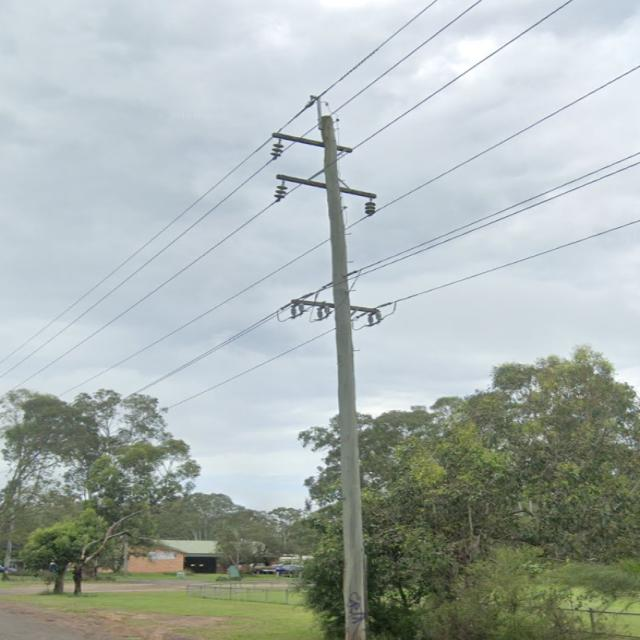HV-transmission: (274, 98, 376, 216)
crossarm: (273, 172, 376, 197), (270, 130, 351, 152), (288, 297, 377, 316)
timber-pole: (320, 115, 366, 632)
